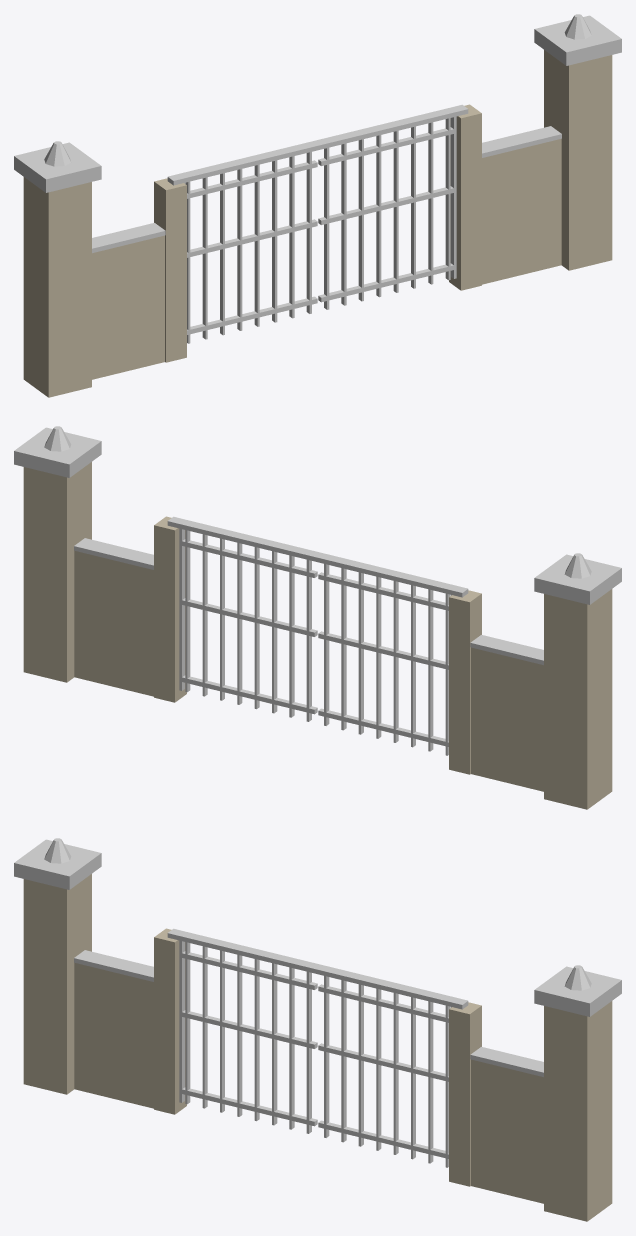
Rendered from detail-gate-fence.glb.
3 renders of one model, top to bottom at view 1: azimuth 30°, elevation 25°; view 2: azimuth 150°, elevation 25°; view 3: azimuth 330°, elevation 25°, orthographic.
Parts seen in each view (by area): view 1: detail-gate-fence; view 2: detail-gate-fence; view 3: detail-gate-fence.
Part boxes in pixels (x1,y1,x2,y2): detail-gate-fence: (14,14,621,397); detail-gate-fence: (14,426,621,809); detail-gate-fence: (14,838,621,1221).
Bounding box in the file's own units: 6.64 × 2.65 × 0.64.
